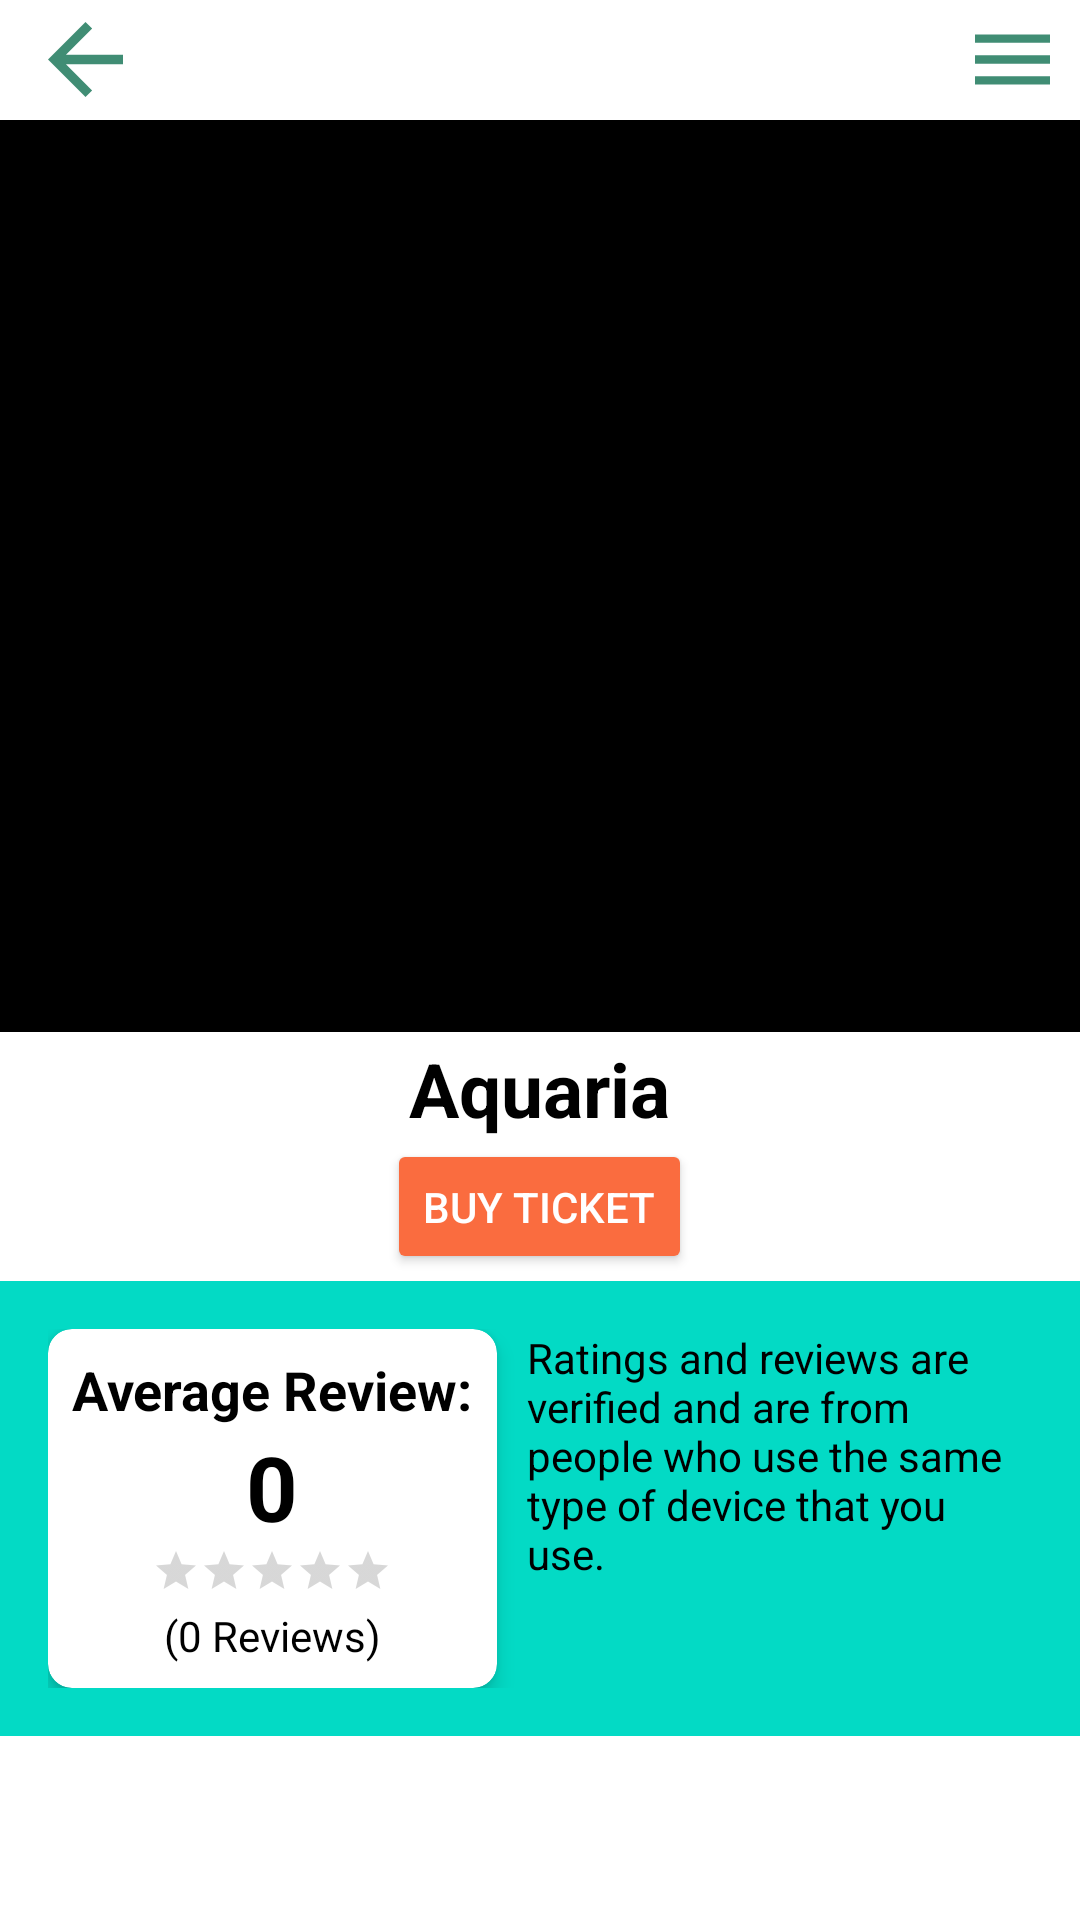

Screen size 1080px×1920px. Icon name, then its box in pixels as BBox(x1, y1, x2, y2):
arrow back: BBox(48, 22, 123, 97)
menu: BBox(975, 34, 1050, 85)
